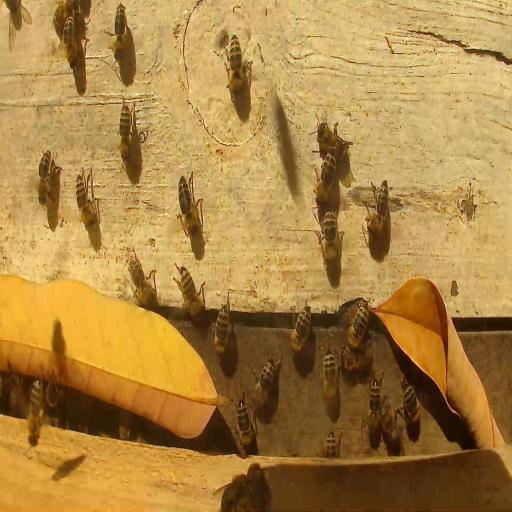nonpollenbee: (174, 261, 206, 330), (315, 121, 351, 174), (363, 179, 391, 237), (250, 354, 277, 414), (320, 208, 342, 273), (379, 396, 402, 454), (228, 35, 248, 101), (76, 168, 97, 230), (247, 462, 273, 510), (290, 301, 313, 355), (236, 396, 256, 455), (218, 471, 247, 511), (402, 376, 422, 432), (314, 154, 336, 204), (367, 374, 384, 438), (322, 348, 340, 408), (341, 346, 373, 378), (347, 303, 368, 349), (114, 2, 129, 63), (63, 14, 79, 69), (118, 98, 133, 156), (212, 302, 230, 350), (37, 152, 51, 205), (178, 173, 194, 216), (52, 2, 74, 32), (130, 254, 145, 293), (46, 372, 60, 412), (325, 432, 340, 458), (118, 423, 133, 440)
pollenbee: (25, 376, 45, 448)
